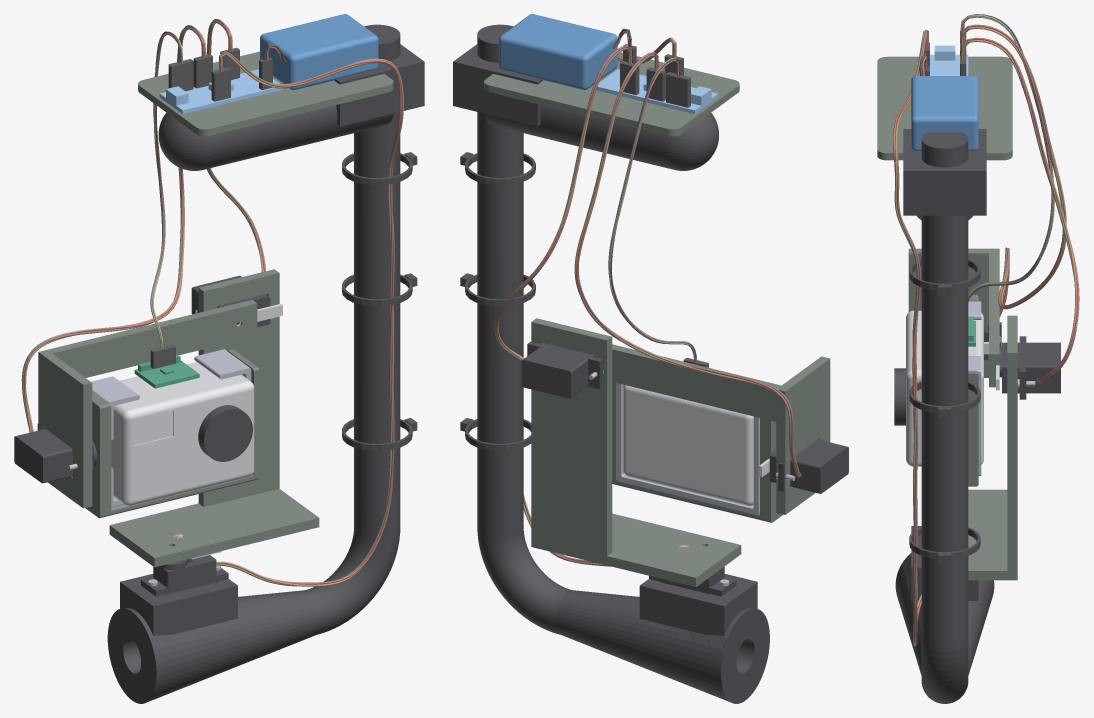
File: gimbal_v1.glb
3 renders of one model, left to right at view 1: azimuth 30°, elevation 25°; view 2: azimuth 150°, elevation 25°; view 3: azimuth 270°, elevation 25°, orthographic.
Visible parts, largest first — view 1: handle, yaw_arm, gopro, roll_arm, tray, battery, cradle, servo_x, gopro_lens, gopro_frame, servo_z, arduino (+12 smaller); view 2: handle, yaw_arm, gopro, roll_arm, tray, battery, servo_y, servo_x, cradle, gopro_frame, arduino, wire_s3_brown (+11 smaller); view 3: handle, tray, yaw_arm, battery, roll_arm, servo_y, gopro, wire_s1_red, cradle, wire_s1_brown, wire_s1_orange, wire_s3_red (+14 smaller).
Boxes of the visible parts, <box> form: handle: <box>107,24,424,703</box>; yaw_arm: <box>109,269,319,567</box>; gopro: <box>111,362,254,505</box>; roll_arm: <box>38,300,257,508</box>; tray: <box>138,51,393,136</box>; battery: <box>260,14,378,90</box>; cradle: <box>85,349,259,518</box>; servo_x: <box>14,423,97,483</box>; gopro_lens: <box>198,405,252,461</box>; gopro_frame: <box>91,349,251,506</box>; servo_z: <box>141,555,228,596</box>; arduino: <box>159,69,282,113</box>; handle: <box>453,24,769,703</box>; yaw_arm: <box>531,318,741,586</box>; gopro: <box>623,385,753,505</box>; roll_arm: <box>612,344,830,514</box>; tray: <box>484,52,739,136</box>; battery: <box>499,14,617,90</box>; servo_y: <box>521,341,602,398</box>; servo_x: <box>769,438,848,493</box>; cradle: <box>612,382,782,522</box>; gopro_frame: <box>616,383,759,514</box>; arduino: <box>596,69,717,113</box>; wire_s3_brown: <box>578,54,799,477</box>; handle: <box>895,129,994,703</box>; tray: <box>877,56,1012,160</box>; yaw_arm: <box>968,315,1017,580</box>; battery: <box>911,76,978,150</box>; roll_arm: <box>908,248,999,387</box>; servo_y: <box>999,336,1060,399</box>; gopro: <box>906,310,983,466</box>; wire_s1_red: <box>893,32,927,644</box>; cradle: <box>968,295,978,486</box>; wire_s1_brown: <box>897,29,928,643</box>; wire_s1_orange: <box>894,30,924,646</box>; wire_s3_red: <box>960,24,1066,314</box>.
Bounding box in the file's own units: 0.1698 × 0.2742 × 0.0778.
